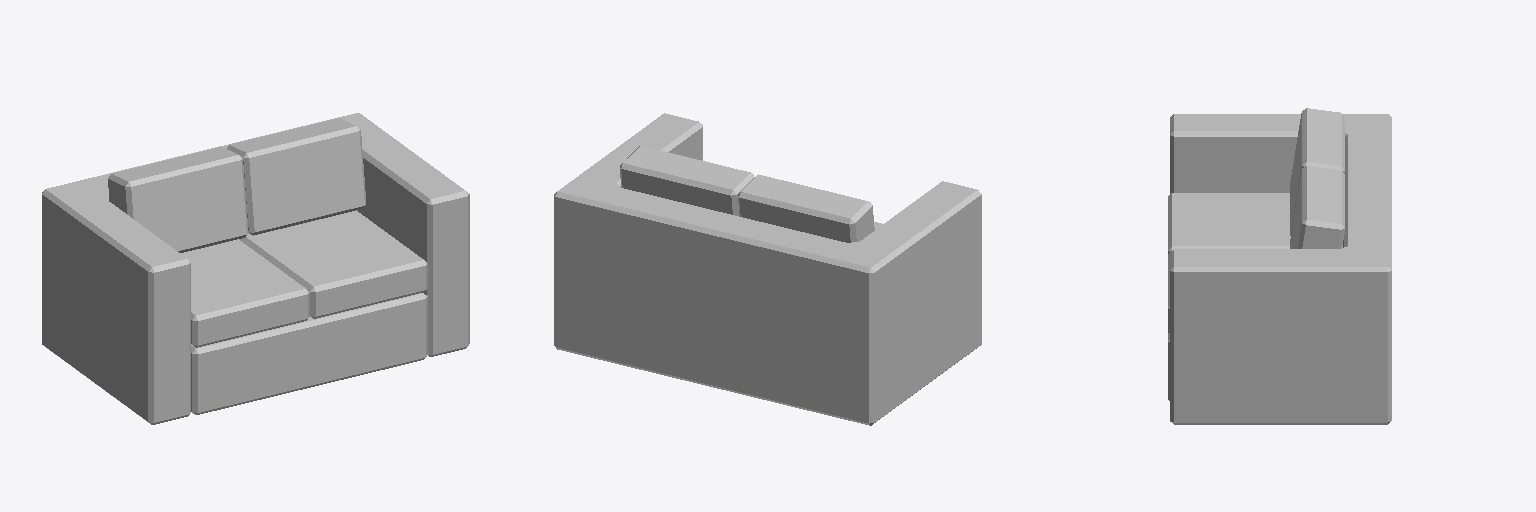
Rendered from lounge01.obj.
3 views of the same model, side by side, from view 1: azimuth 30°, elevation 25°; view 2: azimuth 150°, elevation 25°; view 3: azimuth 270°, elevation 25° (orthographic).
Parts seen in each view (by area): view 1: Cube_Cube.001; view 2: Cube_Cube.001; view 3: Cube_Cube.001.
Boxes of the visible parts, x1,y1,x2,y2 form: Cube_Cube.001: [42, 113, 469, 424]; Cube_Cube.001: [554, 113, 981, 425]; Cube_Cube.001: [1168, 108, 1391, 424].
Bounding box in the file's own units: 1.7 × 0.9338 × 1.03.